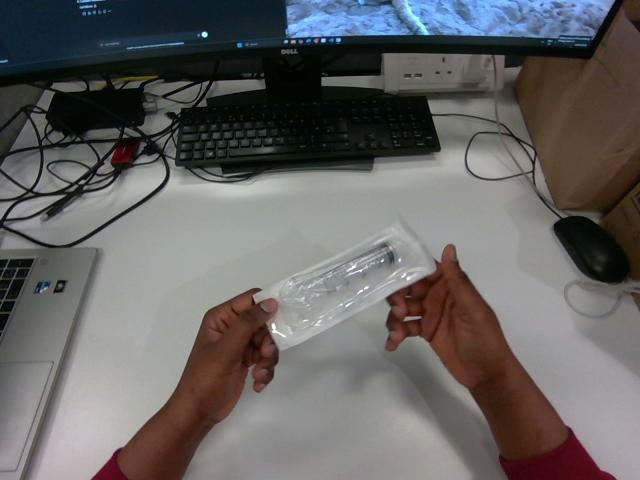syringe: (254, 222, 435, 349)
